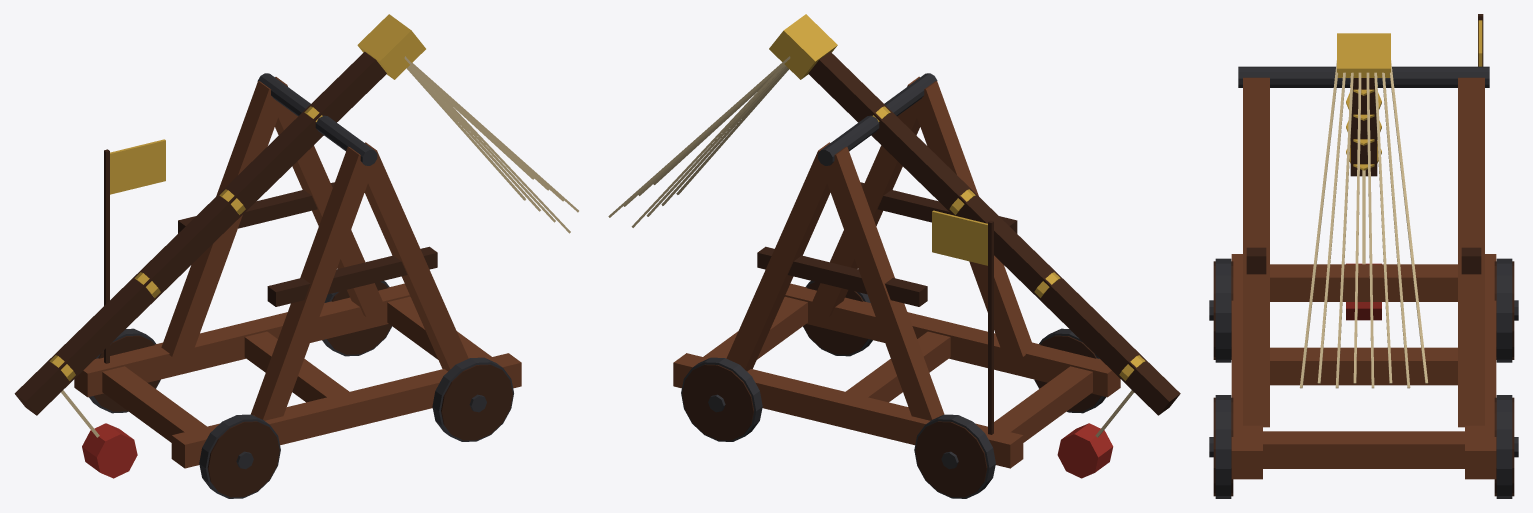
Rendered from manjaniq_xitoy.glb.
3 views of the same model, side by side, from view 1: azimuth 30°, elevation 25°; view 2: azimuth 150°, elevation 25°; view 3: azimuth 270°, elevation 25° (orthographic). The views are drawn at different scales.
Parts seen in each view (by area): view 1: Body, Arm; view 2: Body, Arm; view 3: Body, Arm.
Part boxes in pixels (box(x1,y1,x2,y2)): Body: box(74, 73, 521, 498); Arm: box(14, 14, 578, 478); Body: box(673, 73, 1120, 498); Arm: box(608, 14, 1180, 478); Body: box(1209, 14, 1518, 498); Arm: box(1299, 33, 1428, 388).
Size of the model in its own units: 8.34 by 5.59 by 3.45.
